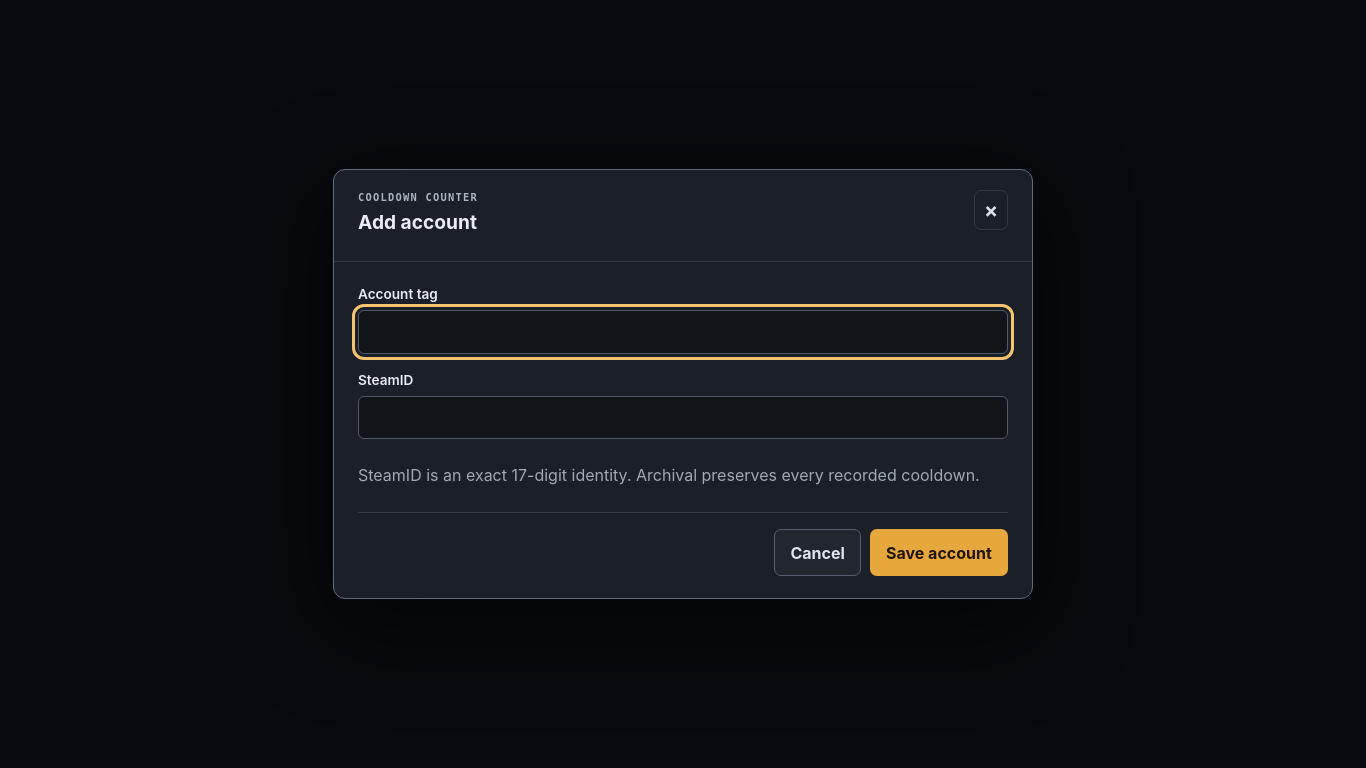
Scenario: real browser tracker forms › validates exact SteamID digits and preserves a failed account draft
This screenshot has width=1366, height=768.
Type "alpha" into the field labelled "Account tag" at x=683, y=332, box [358,310,1008,354]
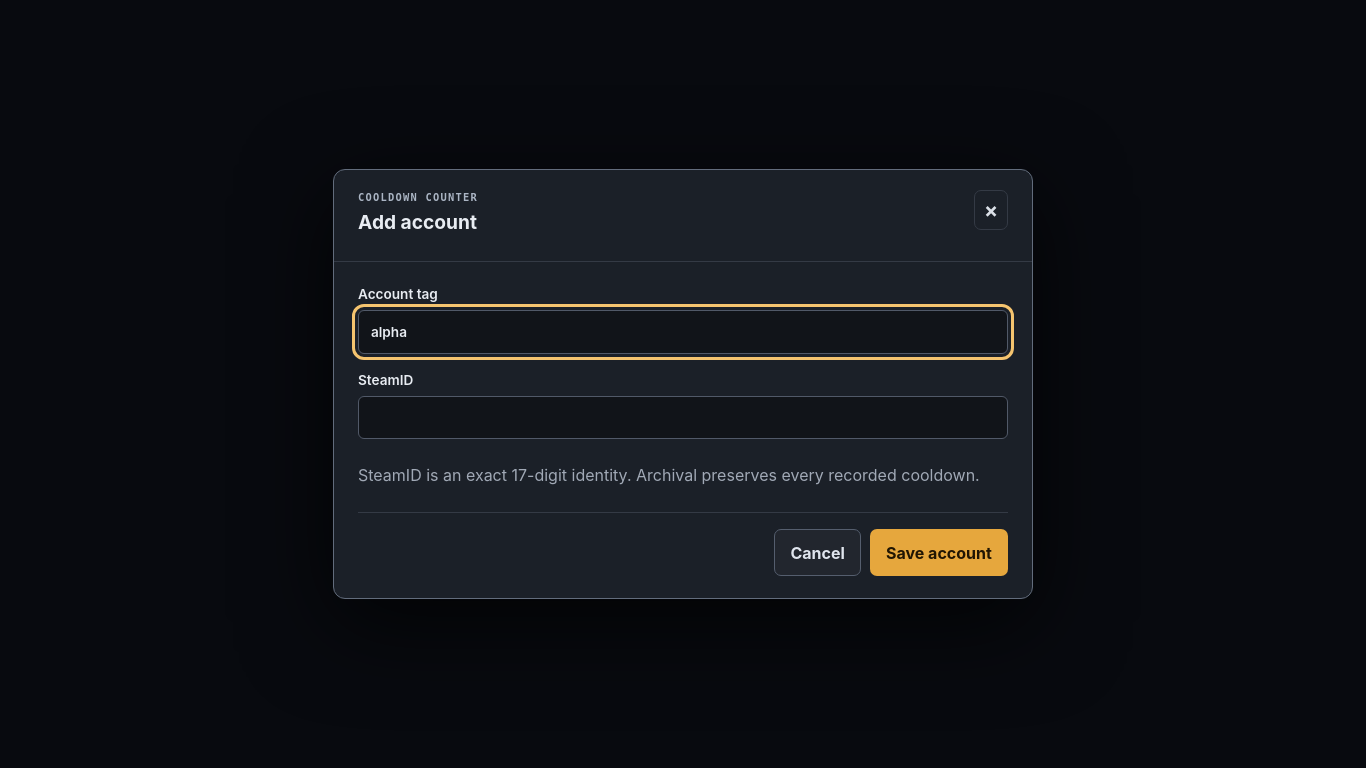
Type "123" into the field labelled "SteamID" at x=683, y=417, box [358,396,1008,439]
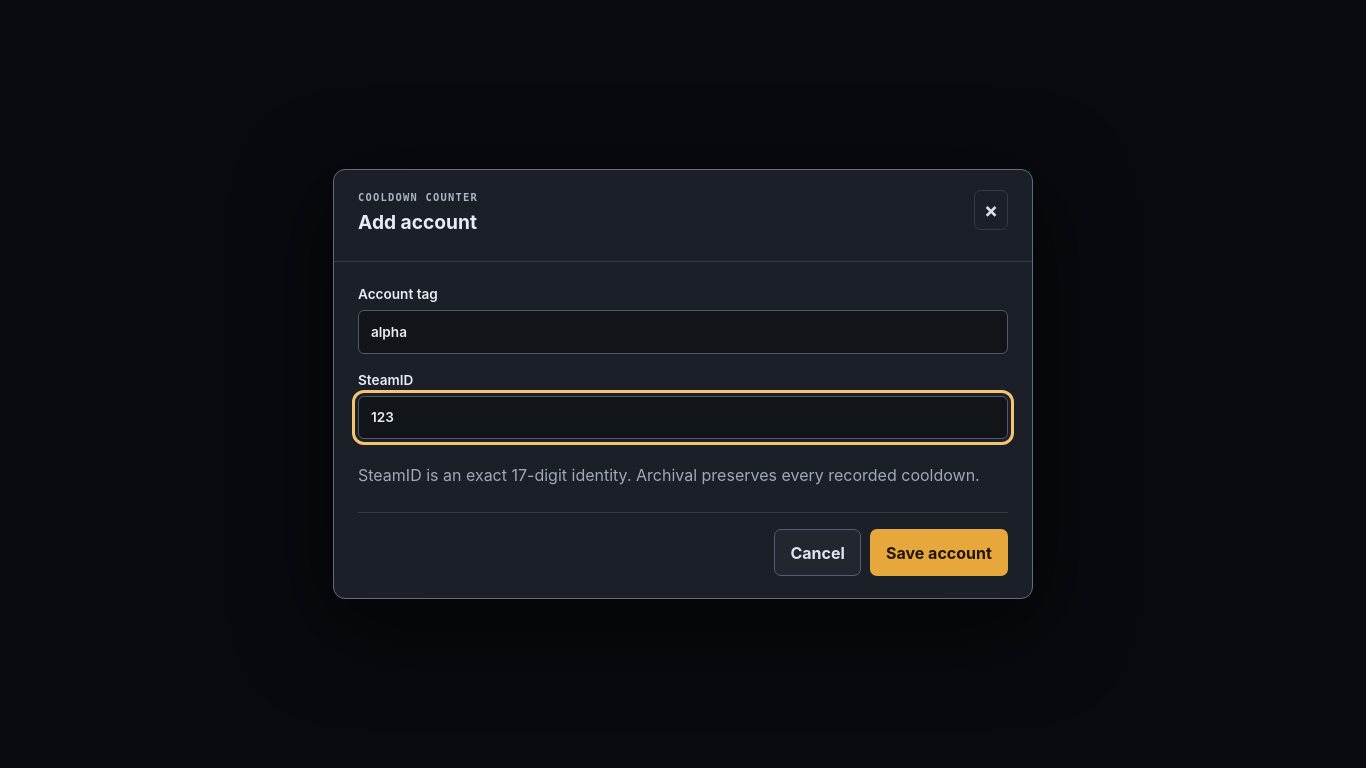
Click the button "Save account" at x=939, y=553, box [870,529,1008,576]
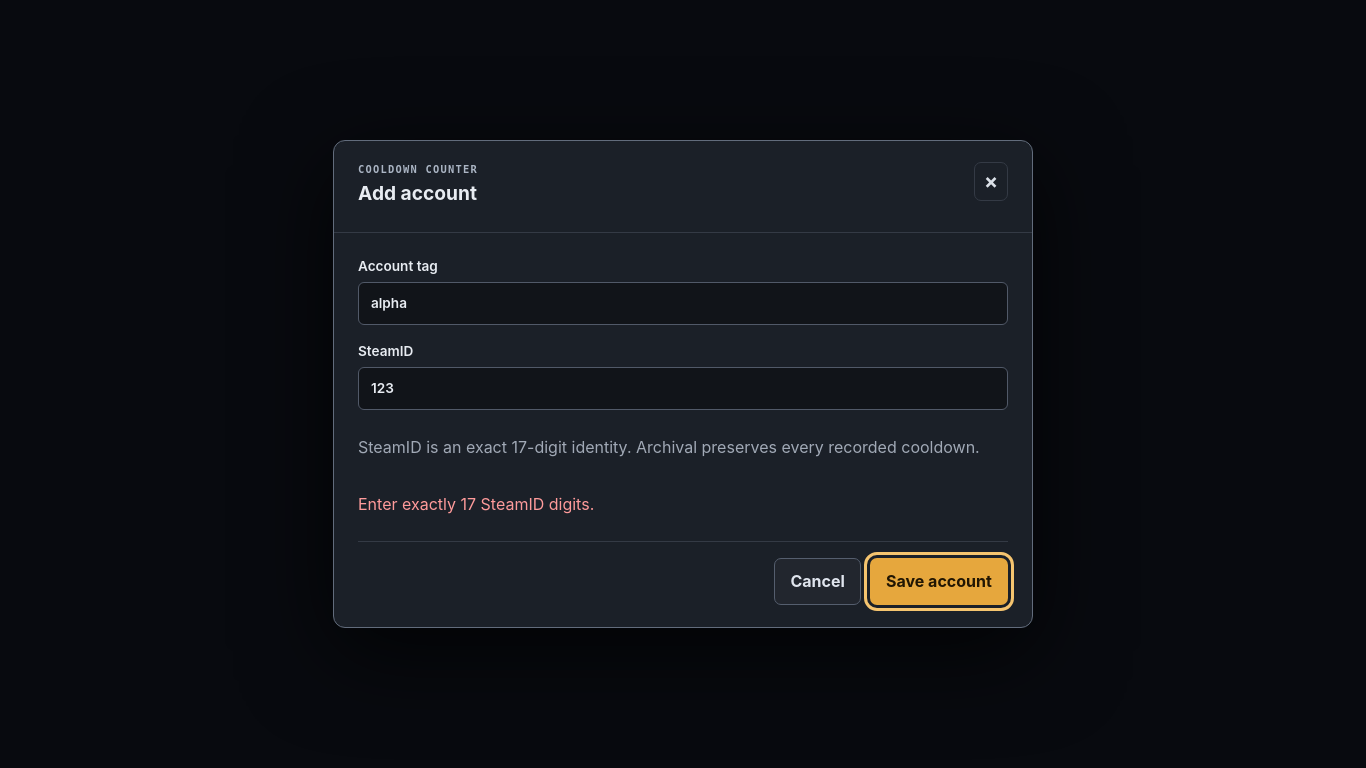
Result: the message reads "Enter exactly 17 SteamID digits." at [358,494,594,514]
Replace the text in the field labelled "SteamID" with "76561198039452203" at x=683, y=388, box [358,367,1008,410]
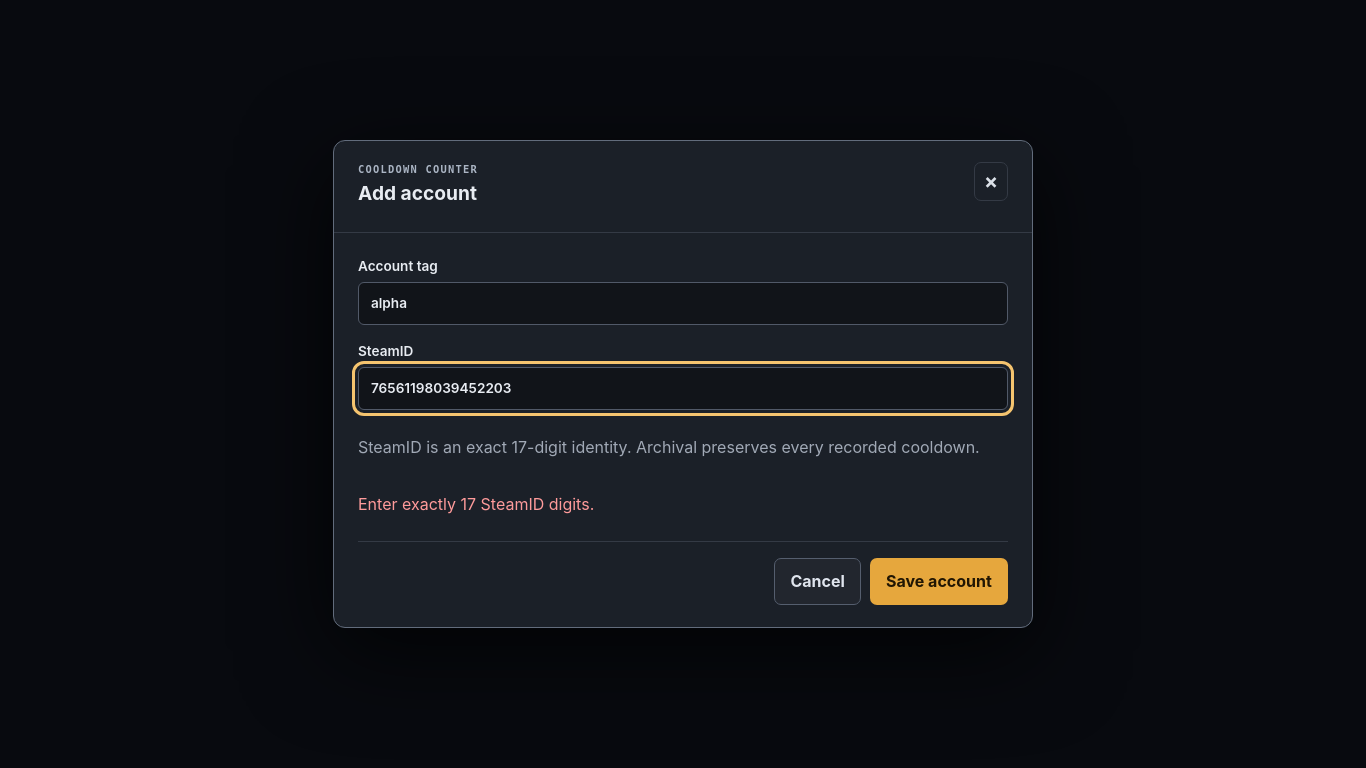
Click the button "Save account" at x=939, y=582, box [870,558,1008,605]
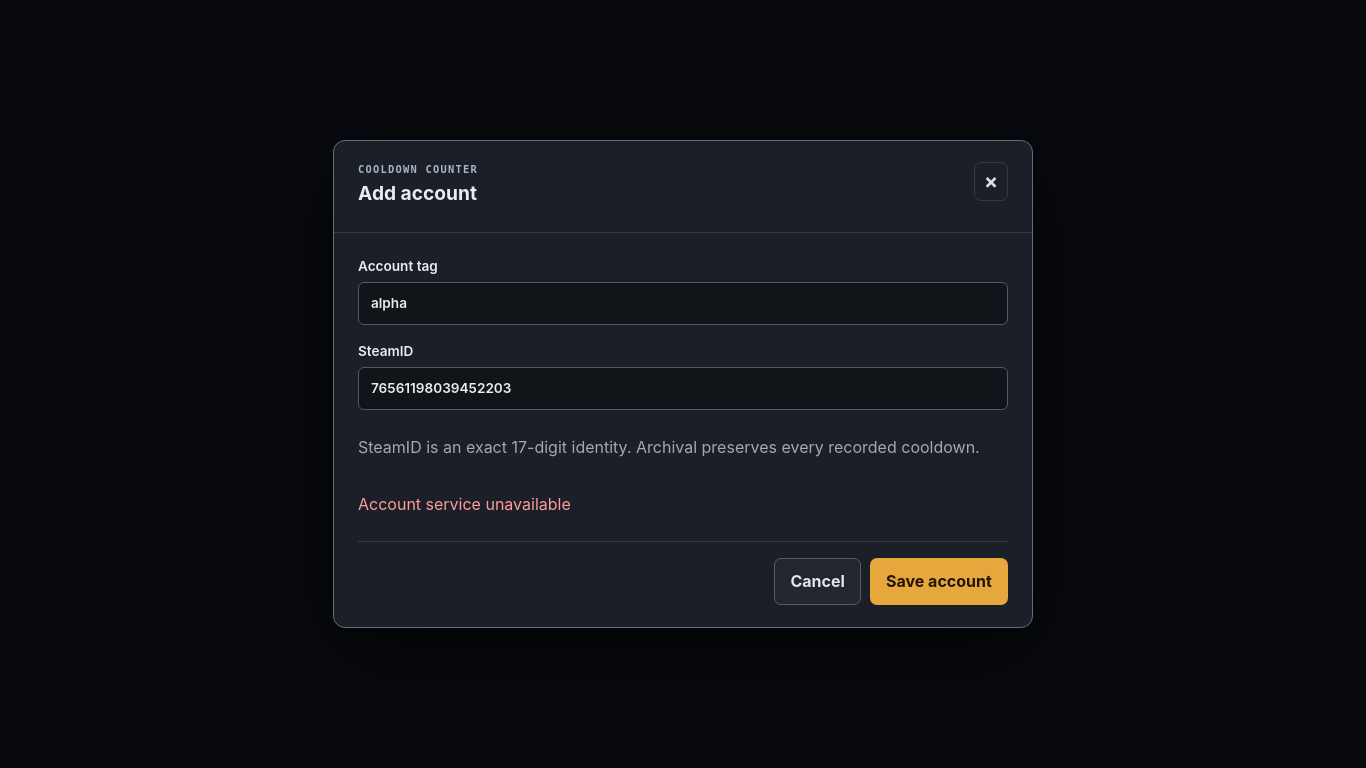
Result: the message reads "Account service unavailable" at [358,494,571,514]
